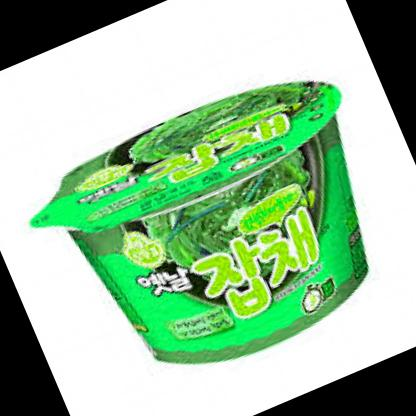Ramen: (51, 57, 416, 399)
